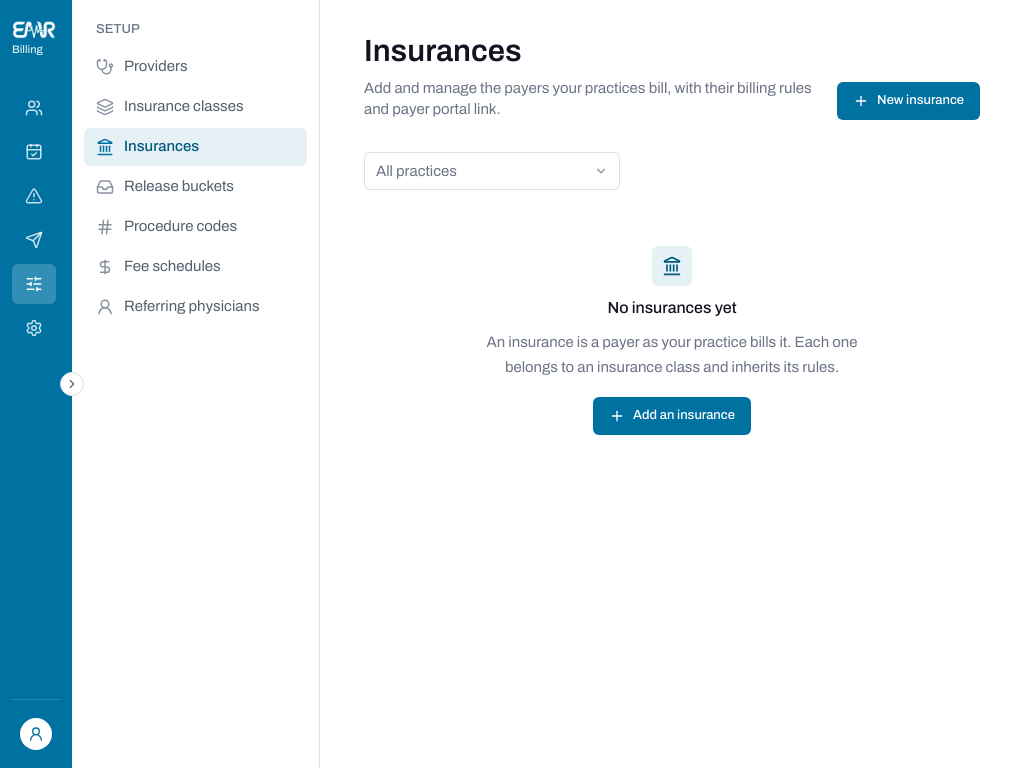
Scenario: Setup → Insurances › explains an empty list and offers to add the first insurance
Expected: the text "No insurances yet" is shown, [607,296,737,320]
Step 1. Click the button "Add an insurance" → (672, 416), box [593,397,751,435]
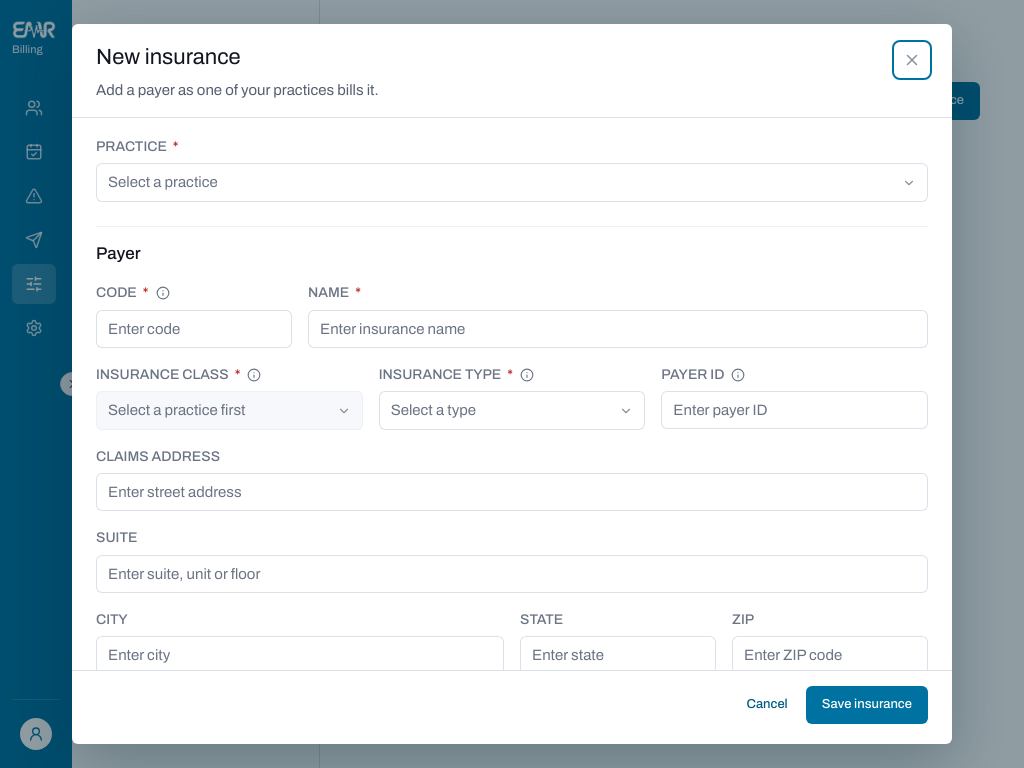
Expected: the heading "New insurance" is shown, [96,45,241,69]
